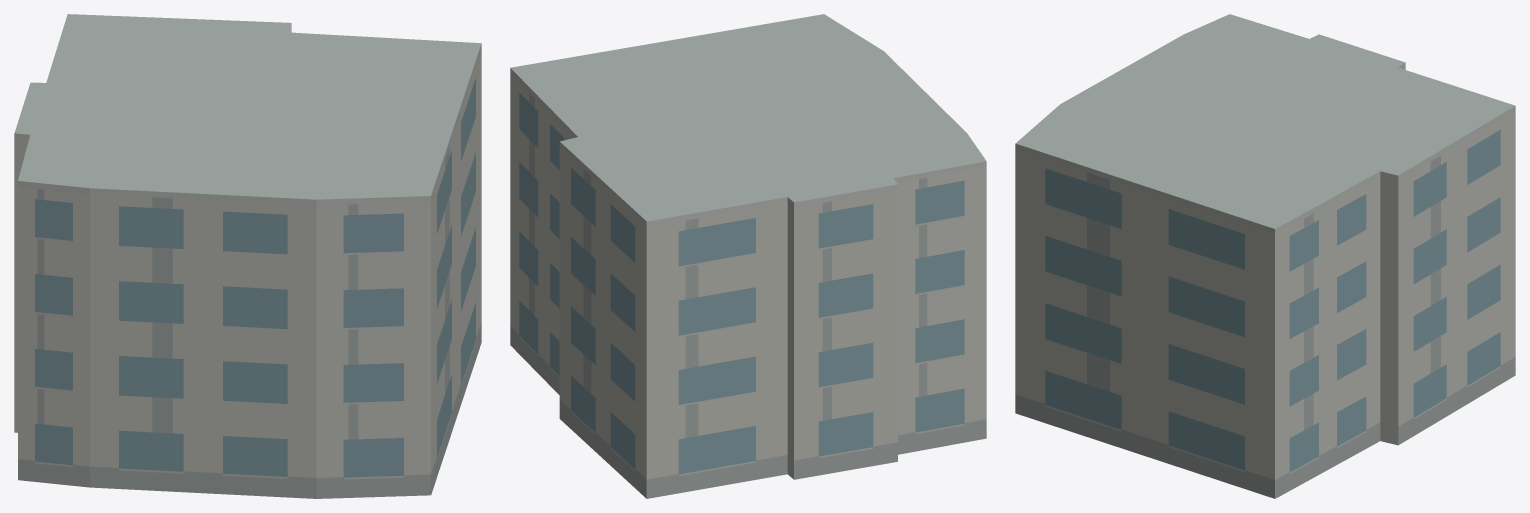
Rendered from residential-5100e8c5-817f-4ec0-933b-e92d4bcde77b.glb.
The picture shows the model from 3 angles, left to right: view 1: azimuth 30°, elevation 25°; view 2: azimuth 150°, elevation 25°; view 3: azimuth 270°, elevation 25°; orthographic projection. The views are drawn at different scales.
Visible parts, largest first — view 1: residential-5100e8c5-817f-4ec0-933b-e92d4bcde77b.tmp; view 2: residential-5100e8c5-817f-4ec0-933b-e92d4bcde77b.tmp; view 3: residential-5100e8c5-817f-4ec0-933b-e92d4bcde77b.tmp.
Part boxes in pixels (left/top/right/bottom): residential-5100e8c5-817f-4ec0-933b-e92d4bcde77b.tmp: left=14, top=14, right=481, bottom=498; residential-5100e8c5-817f-4ec0-933b-e92d4bcde77b.tmp: left=510, top=14, right=986, bottom=498; residential-5100e8c5-817f-4ec0-933b-e92d4bcde77b.tmp: left=1015, top=14, right=1515, bottom=498.
Bounding box in the file's own units: 20.87 × 12.2 × 20.5.
